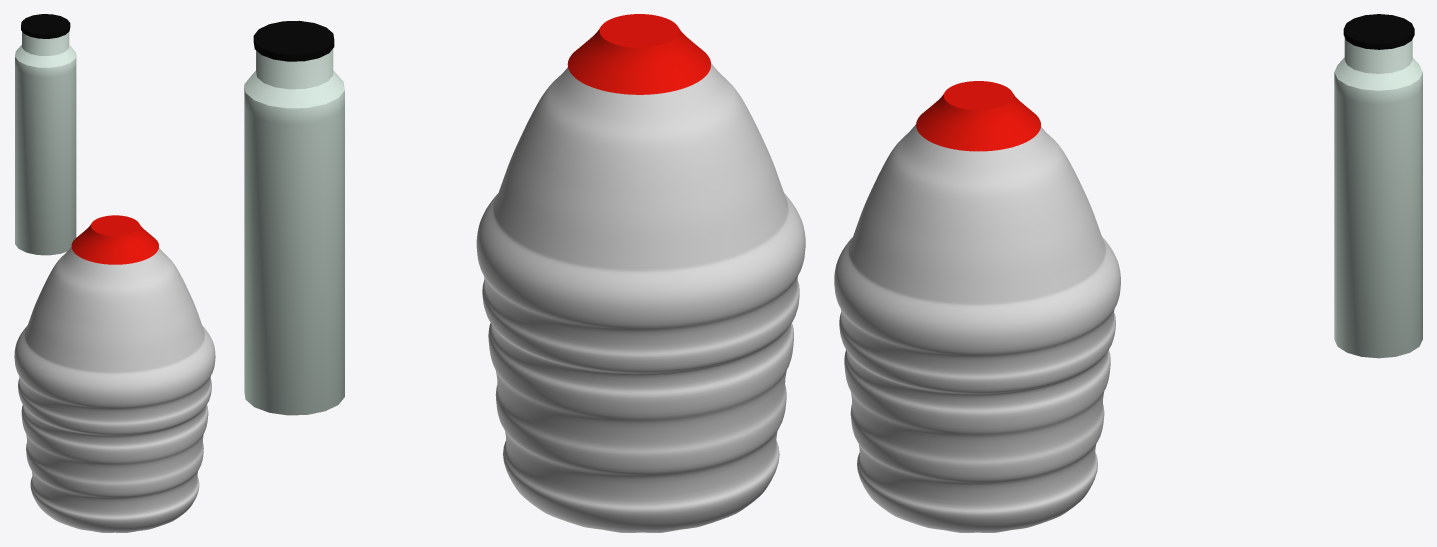
File: bottleoil.fbx
3 views of the same model, side by side, from view 1: azimuth 30°, elevation 25°; view 2: azimuth 150°, elevation 25°; view 3: azimuth 270°, elevation 25° (orthographic). The views are drawn at different scales.
Visible parts, largest first — view 1: bottle, can, cover, top; view 2: bottle, can, cover, top; view 3: bottle, can, cover, top.
Boxes of the visible parts, x1=… form: bottle: x1=14, y1=247, x2=215, y2=532; can: x1=15, y1=31, x2=76, y2=255; cover: x1=71, y1=215, x2=158, y2=264; top: x1=21, y1=14, x2=70, y2=38; bottle: x1=476, y1=63, x2=805, y2=532; can: x1=244, y1=48, x2=344, y2=415; cover: x1=567, y1=14, x2=710, y2=94; top: x1=253, y1=20, x2=334, y2=61; bottle: x1=834, y1=124, x2=1120, y2=532; can: x1=1334, y1=37, x2=1422, y2=358; cover: x1=916, y1=81, x2=1040, y2=151; top: x1=1343, y1=14, x2=1414, y2=49.
Bounding box in the file's own units: 2.13 × 4.02 × 4.1.
